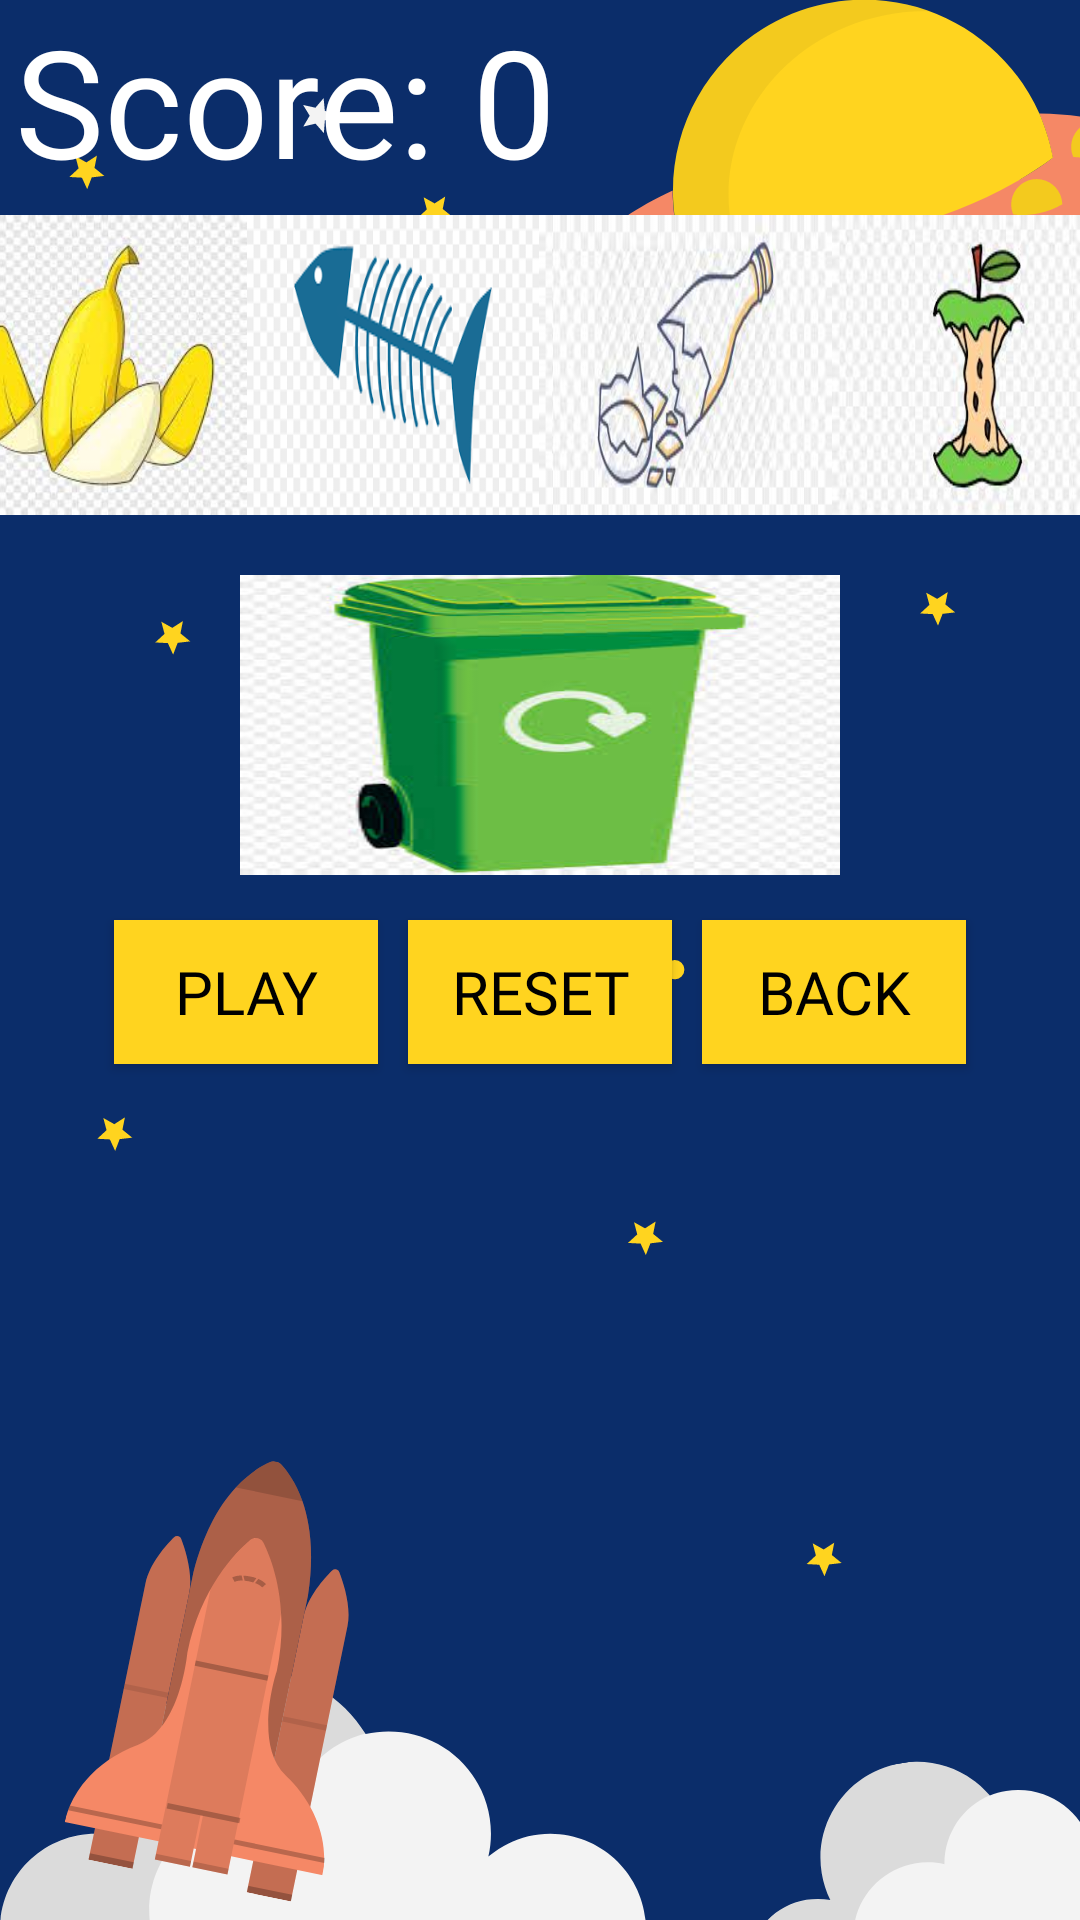

Named icons in this screenshot (1080*1920) and their centers, (x,y):
fish: (393,365)
glass: (685,365)
